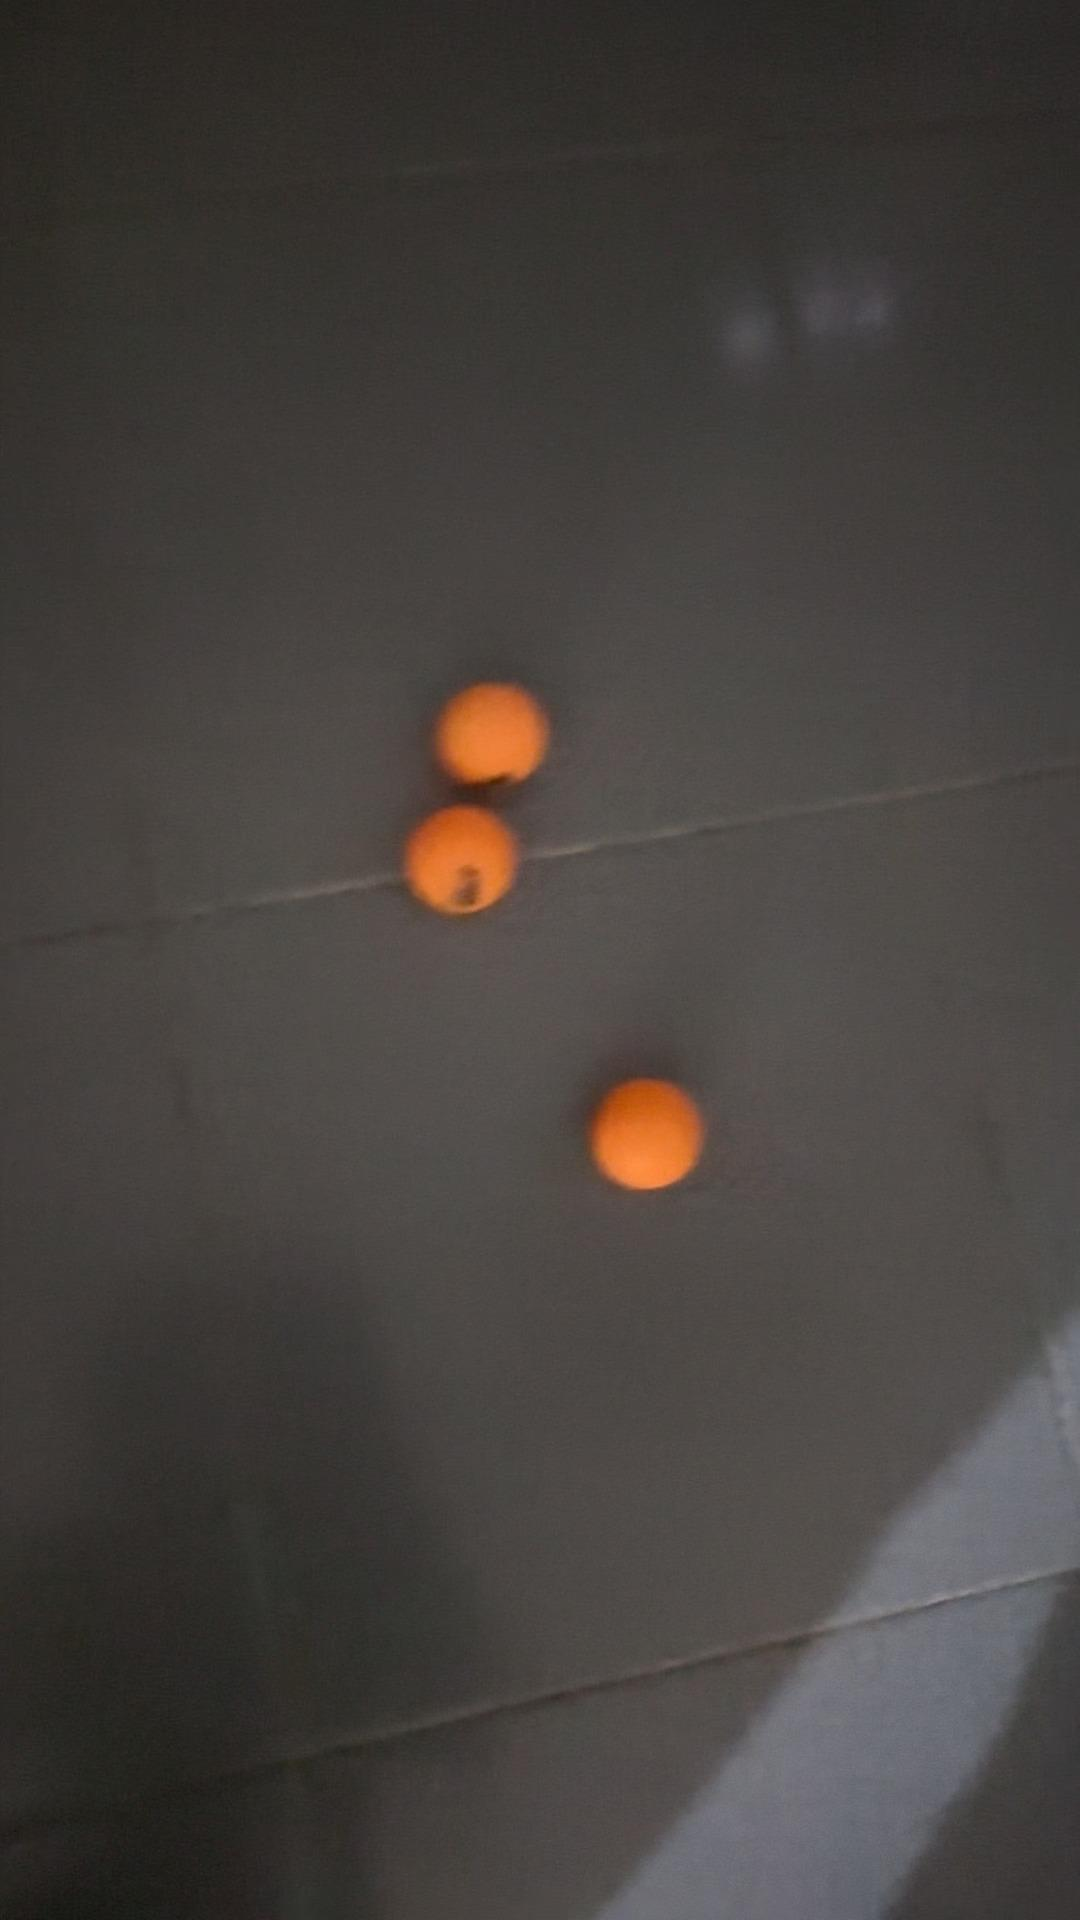oball: (588, 1068, 737, 1197), (434, 671, 575, 806), (401, 785, 529, 922)
